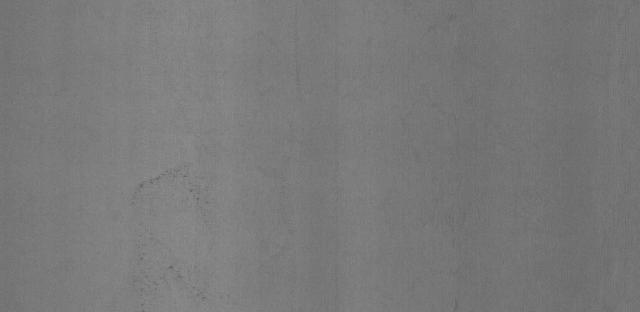inclusion: (128, 247, 211, 308), (129, 161, 213, 221)
